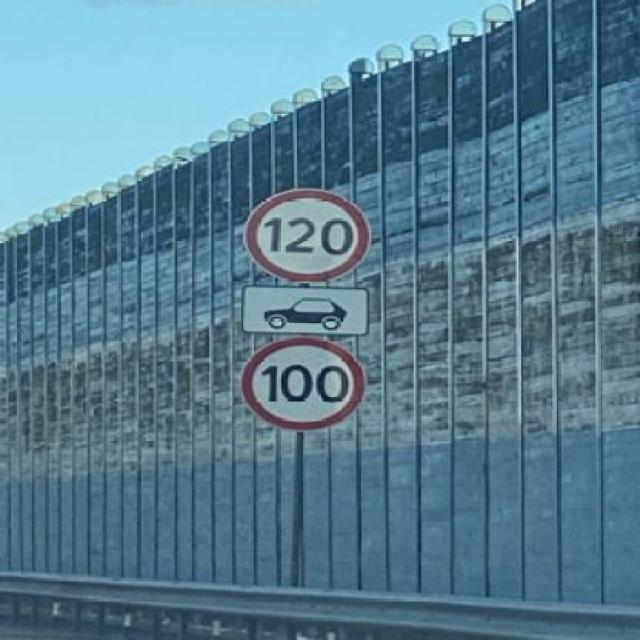forb_speed_over_100: (245, 345, 364, 433)
forb_speed_over_120: (246, 190, 366, 279)
